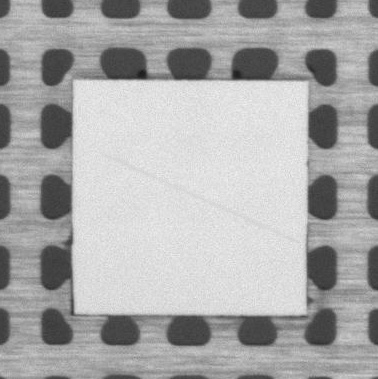DIE_CRACK: (103, 154, 297, 243)
